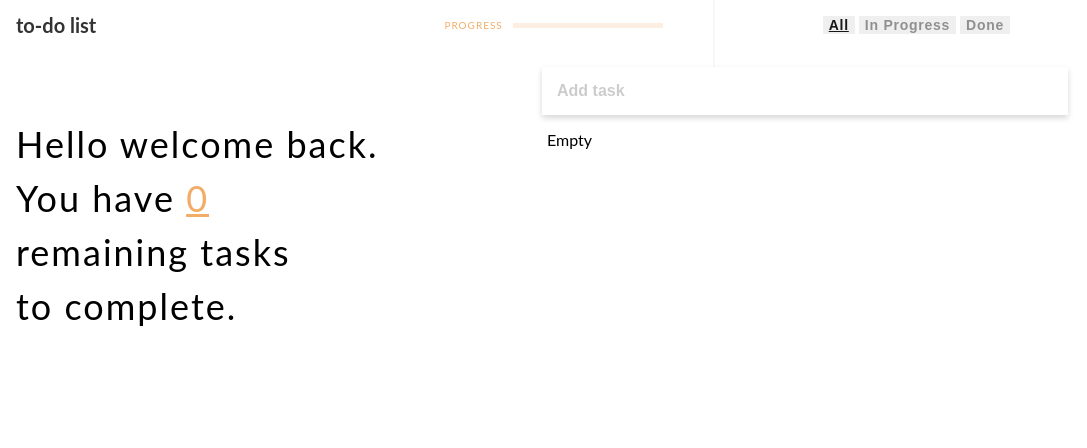
Scenario: todo app › As a user i can add todo
This screenshot has width=1087, height=448.
Type "Have a lunch" into the field with test id "todo-input" at (805, 91), box top-left (542, 67), bottom-right (1068, 115)
Then press Enter
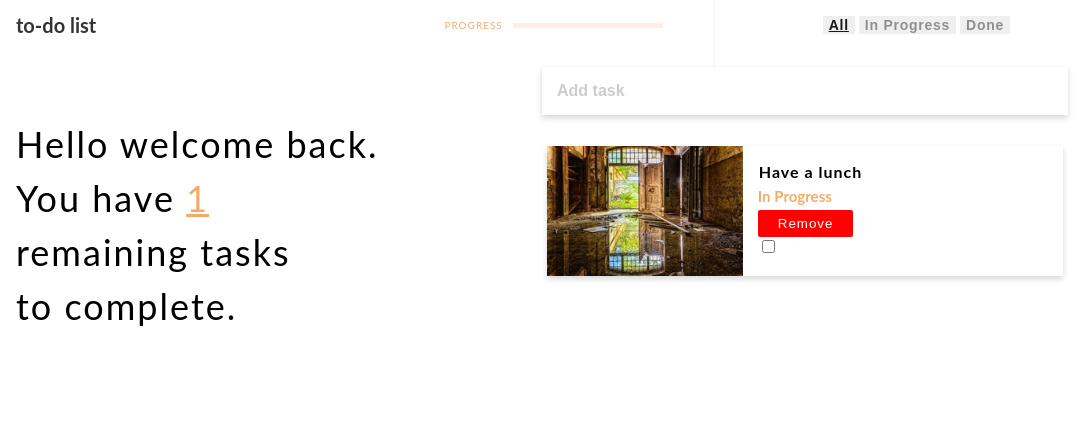
Type "Have a dinner" into the field with test id "todo-input" at (805, 91), box top-left (542, 67), bottom-right (1068, 115)
Then press Enter
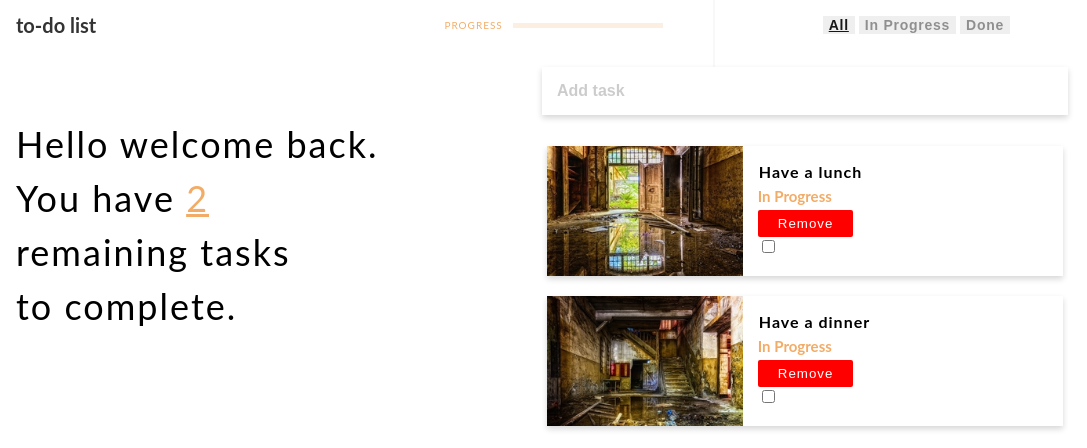
Expected: the number of list items with test id "todo-item" is 2, top-left (547, 146), bottom-right (1063, 276); top-left (547, 296), bottom-right (1063, 426)
